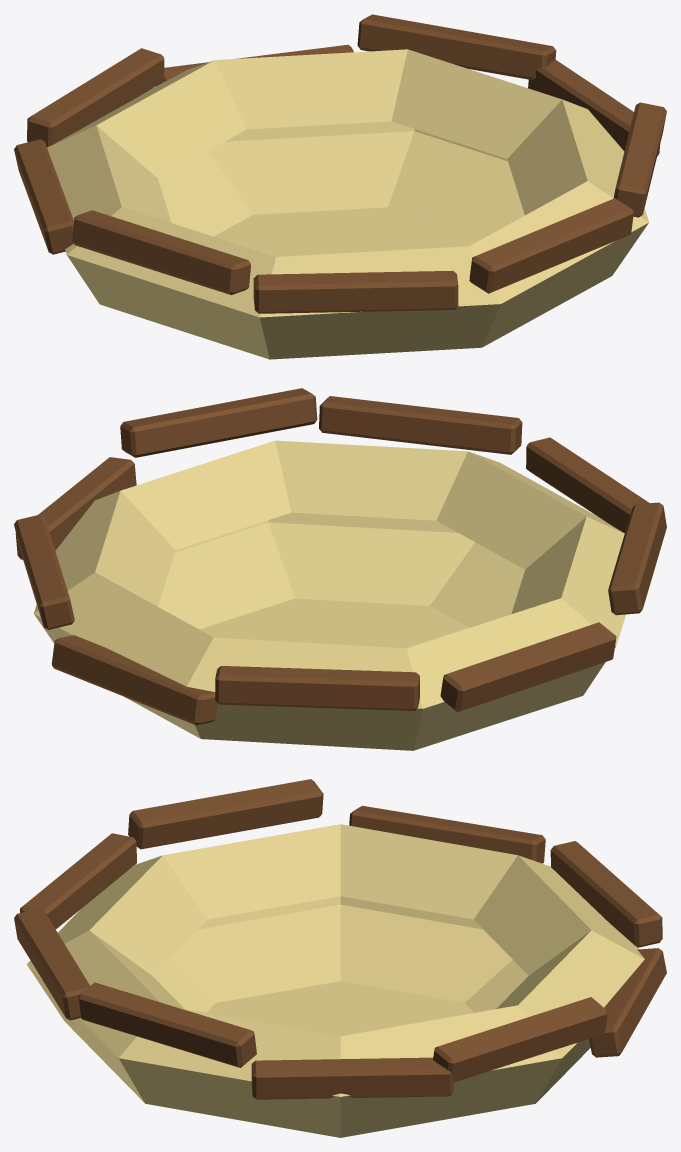
File: Prop_WZ_EggNest_LOD1.glb
3 views of the same model, one above another, from view 1: azimuth 30°, elevation 25°; view 2: azimuth 150°, elevation 25°; view 3: azimuth 270°, elevation 25° (orthographic).
Visible parts, largest first — view 1: Prop_WZ_EggNest; view 2: Prop_WZ_EggNest; view 3: Prop_WZ_EggNest.
Boxes of the visible parts, bbox=[...] form: Prop_WZ_EggNest: bbox=[14, 14, 666, 359]; Prop_WZ_EggNest: bbox=[14, 388, 666, 750]; Prop_WZ_EggNest: bbox=[14, 779, 666, 1137].
Bounding box in the file's own units: 0.5113 × 0.1292 × 0.5202.
